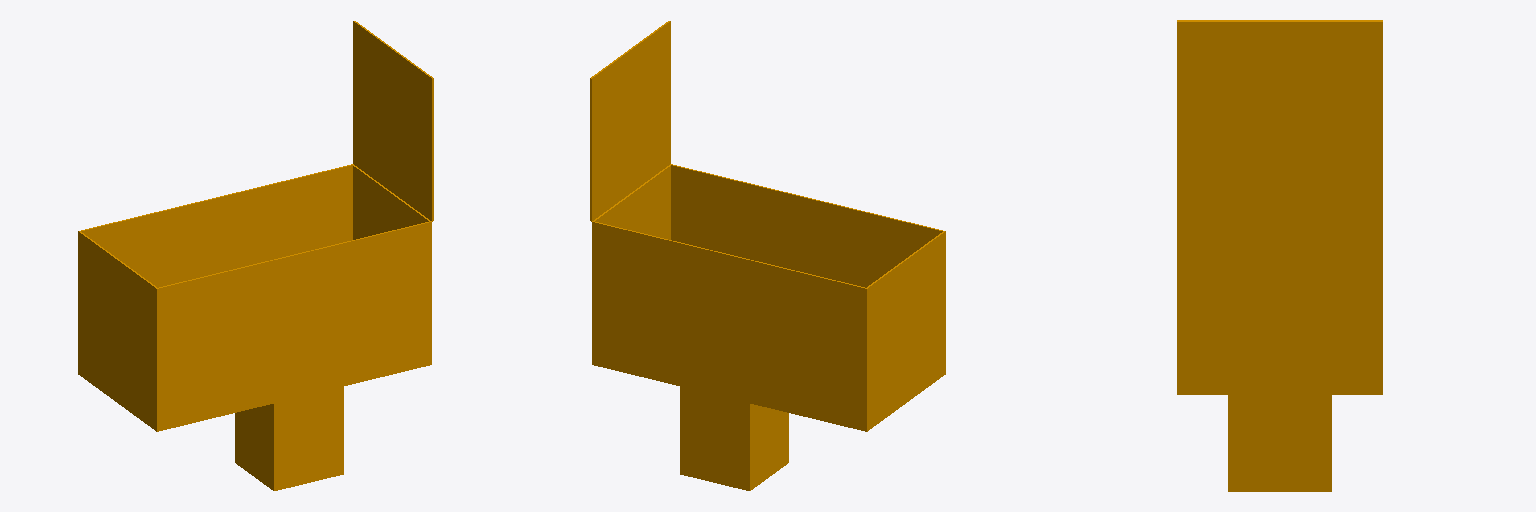
The robot description file, URDF, robot "bfunnelA":
<?xml version="1.0"?>
<robot name="bfunnelA">
	<link name="bfunnelA">
		<inertial>
			<!--origin xyz="0 0 0" rpy="0 0 0" /-->
			<mass value="0.5" />
			<!--inertia ixx="0.000360" ixy="0" ixz="0" iyy="0.0000615" iyz="0" izz="0.00036" /-->
		</inertial>
    		<visual>
	      		<!--origin rpy="0 0 0" xyz="0 0 0"/-->
      			<geometry>
        			<mesh filename="bfunnelA.obj"/>
      			</geometry>
         	</visual>
    		<collision>
      			<!--origin rpy="0 0 0" xyz="0 0 0"/-->
      			<geometry>
        			<mesh filename="bfunnelA.obj"/>
      			</geometry>
    		</collision>
	</link>
</robot>

--- Facts derived from the render (not from the file) ---
Views: 3 orthographic renders of the robot side by side, from view 1: azimuth 30°, elevation 25°; view 2: azimuth 150°, elevation 25°; view 3: azimuth 270°, elevation 25°.
Robot: bfunnelA — 1 links, 0 joints (none); root link bfunnelA; default pose: all joints at 0.
Visible links, largest first — view 1: bfunnelA; view 2: bfunnelA; view 3: bfunnelA.
Link boxes in pixels (bbox=[...]): bfunnelA: bbox=[78, 21, 433, 490]; bfunnelA: bbox=[590, 21, 945, 490]; bfunnelA: bbox=[1177, 20, 1382, 491].
Bounding box of the posed robot: 0.162 × 0.08 × 0.22 m (x, y, z).
Meshes: 1 distinct files referenced, 1 mesh visuals loaded (1 OBJ).
